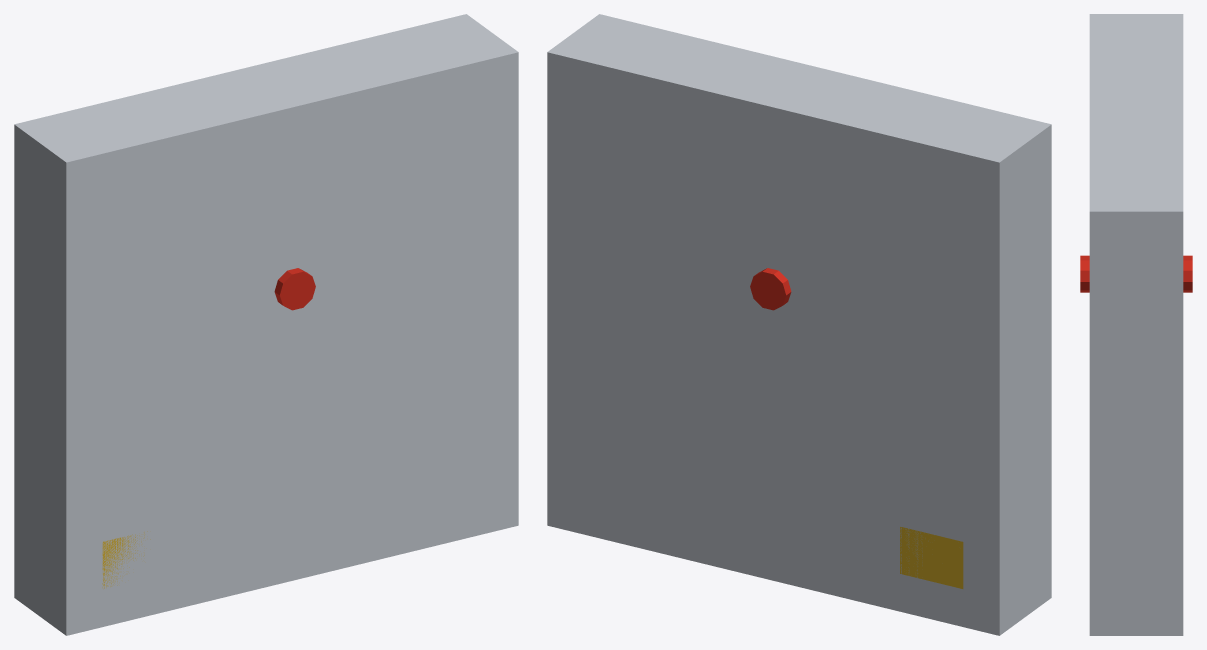
Rendered from blast_door_bottom_left_open.obj.
3 views of the same model, side by side, from view 1: azimuth 30°, elevation 25°; view 2: azimuth 150°, elevation 25°; view 3: azimuth 270°, elevation 25° (orthographic). The views are drawn at different scales.
Parts seen in each view (by area): view 1: blast_door_bottom_left_open; view 2: blast_door_bottom_left_open; view 3: blast_door_bottom_left_open.
Part boxes in pixels (<box>): blast_door_bottom_left_open: <box>14,14,518,635</box>; blast_door_bottom_left_open: <box>547,14,1051,635</box>; blast_door_bottom_left_open: <box>1080,14,1192,635</box>.
Bounding box in the file's own units: 1 × 1 × 0.24.
